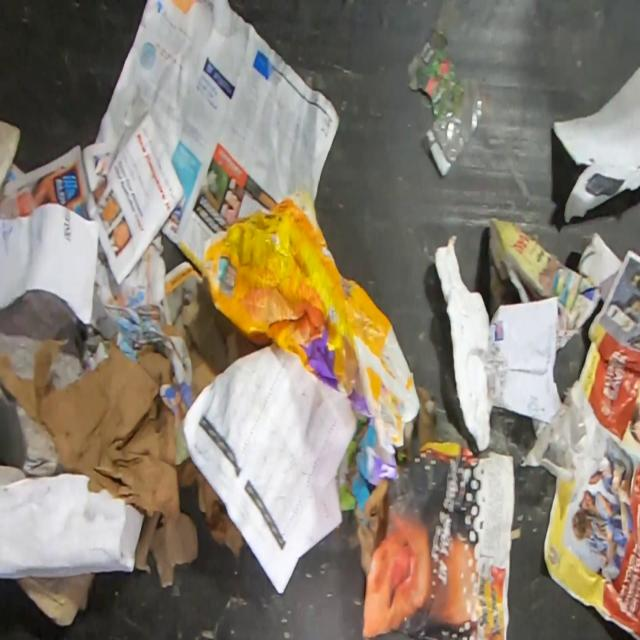cardboard: (202, 189, 420, 480), (0, 338, 245, 587), (17, 572, 97, 625)
soft_plastic: (426, 80, 486, 177)
